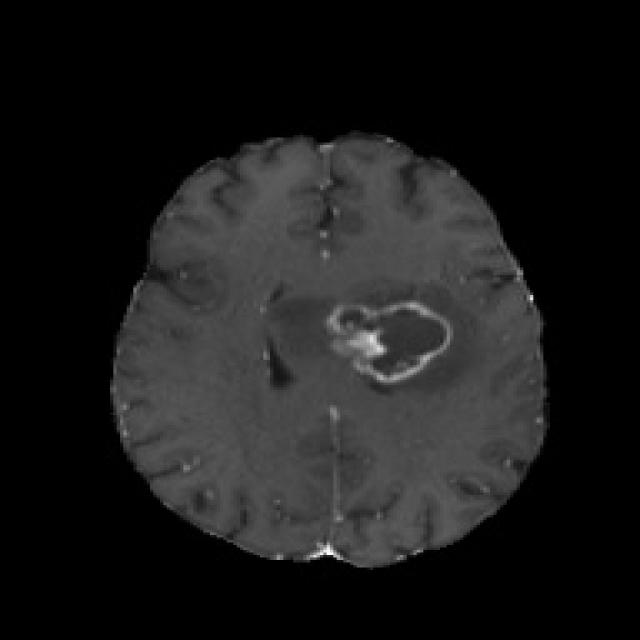negative: (327, 299, 453, 386)
